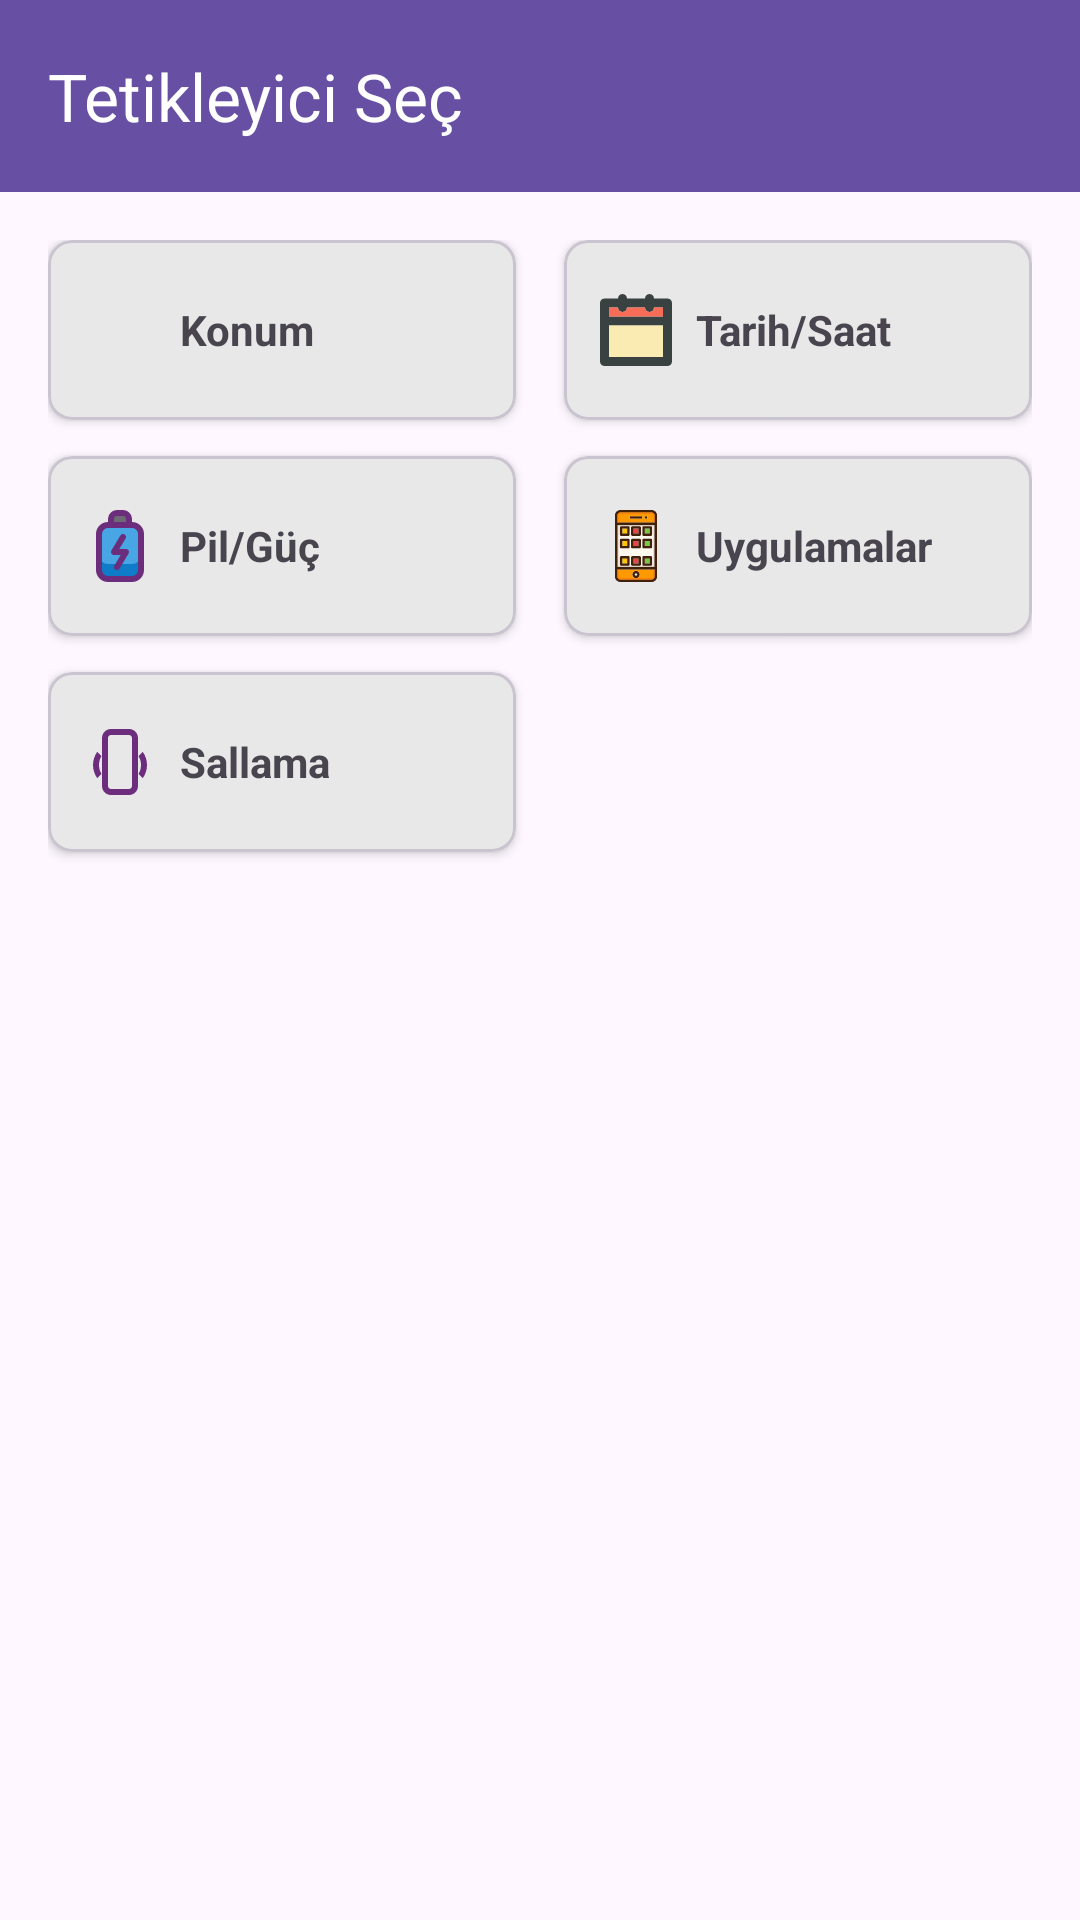

Where to tap for icons on this 1080*1920 app screen, as (x=x, y=y):
apps: (x=636, y=546)
battery: (x=120, y=546)
shake: (x=120, y=762)
time: (x=636, y=330)
